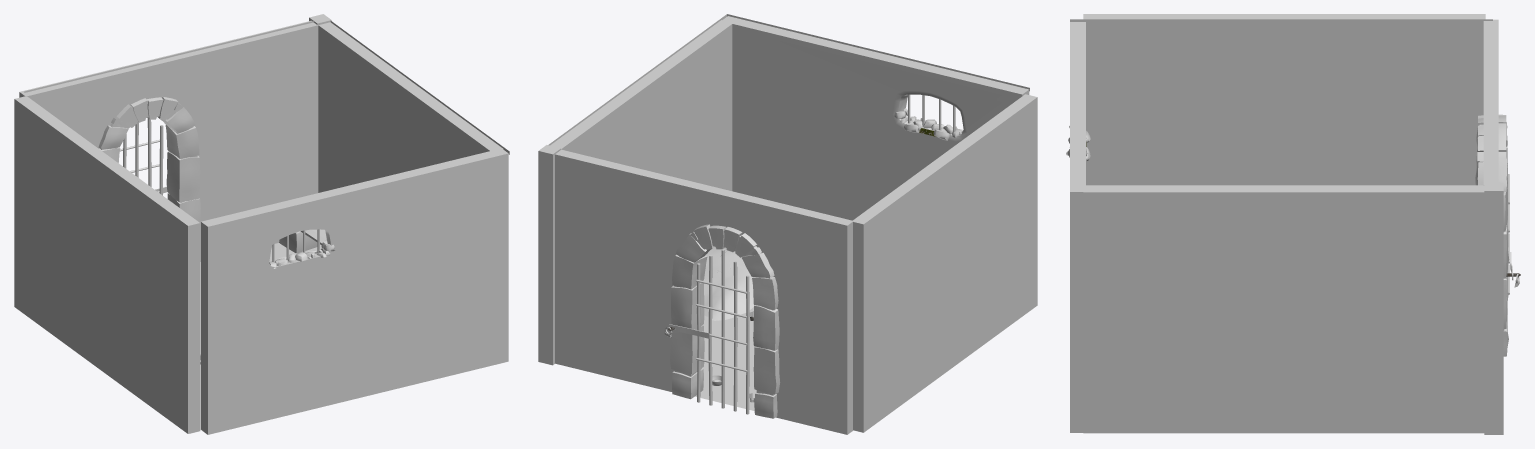
The model's file is jail.gltf.
3 views of the same model, side by side, from view 1: azimuth 30°, elevation 25°; view 2: azimuth 150°, elevation 25°; view 3: azimuth 270°, elevation 25° (orthographic). The views are drawn at different scales.
Parts seen in each view (by area): view 1: wall_3, wall_2, wall_1, wall_2_walls_0.001, pPlane14, arc, pPlane10, metal_door, wind_stones, pCube66; view 2: wall_1, wall_2, wall_3, wall_2_walls_0.001, arc, pCube70, metal_door, floor1, pCube21, pPlane10, pPlane11, pPlane14 (+1 smaller); view 3: wall_2_walls_0.001, wall_2, wall_3, pCube70, wall_1, pPlane10, arc, metal_door.
Boxes of the visible parts, box(x1,y1,x2,y2) form: wall_3: box(201, 149, 508, 434); wall_2: box(14, 96, 200, 433); wall_1: box(19, 20, 318, 261); wall_2_walls_0.001: box(318, 22, 503, 183); pPlane14: box(318, 26, 357, 192); arc: box(98, 97, 200, 222); pPlane10: box(24, 21, 509, 154); metal_door: box(120, 118, 167, 195); wind_stones: box(269, 240, 335, 268); pCube66: box(279, 231, 317, 253); wall_1: box(555, 149, 853, 434); wall_2: box(853, 94, 1037, 432); wall_3: box(722, 16, 1029, 219); wall_2_walls_0.001: box(550, 20, 732, 190); arc: box(670, 224, 780, 418); pCube70: box(538, 145, 560, 365); metal_door: box(668, 249, 752, 414); floor1: box(695, 307, 756, 410); pCube21: box(703, 247, 754, 320); pPlane10: box(548, 14, 1029, 145); pPlane11: box(904, 129, 955, 162); pPlane14: box(561, 121, 600, 158); wall_2_walls_0.001: box(1083, 185, 1484, 433); wall_2: box(1083, 14, 1485, 185); wall_3: box(1070, 22, 1085, 432); pCube70: box(1484, 182, 1503, 434); wall_1: box(1483, 19, 1498, 185); pPlane10: box(1070, 19, 1492, 23); arc: box(1475, 114, 1509, 356); metal_door: box(1506, 147, 1513, 329).
Bounding box in the file's own units: 14.92 × 9.64 × 16.
Materials: 3 (3 with a texture image).
